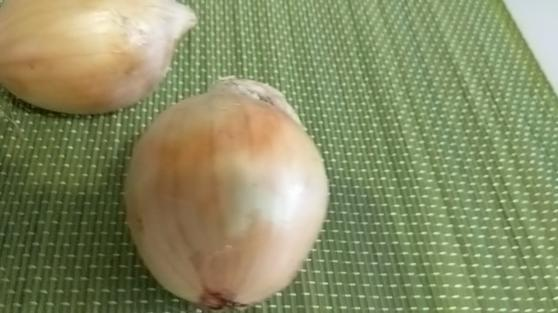onion: (115, 73, 340, 310), (1, 1, 204, 119)
